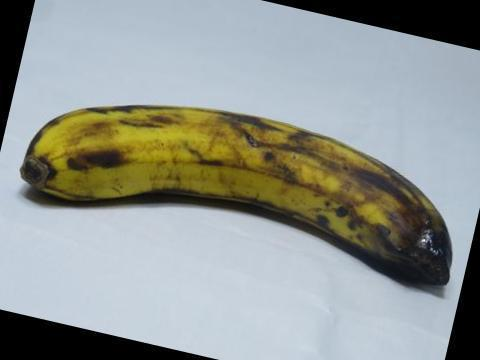overripe: (13, 83, 479, 330)
rotten: (340, 184, 479, 306)
